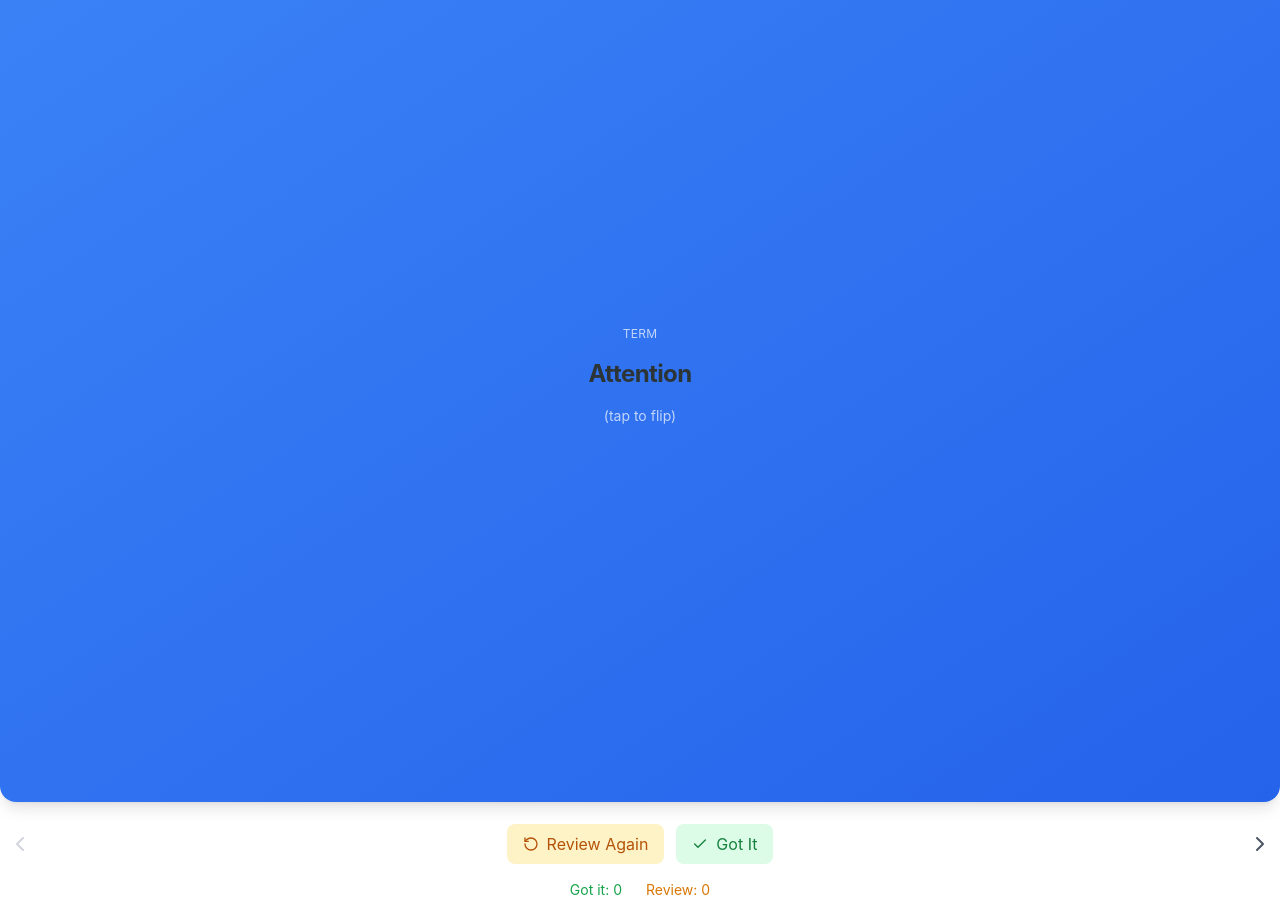
Scenario: FlashcardDeck › advances to next card after Got It
(page scrolled)
Click the button with test id "got-it-button".
click(725, 844)  # box [676,824,773,864]
(page scrolled)
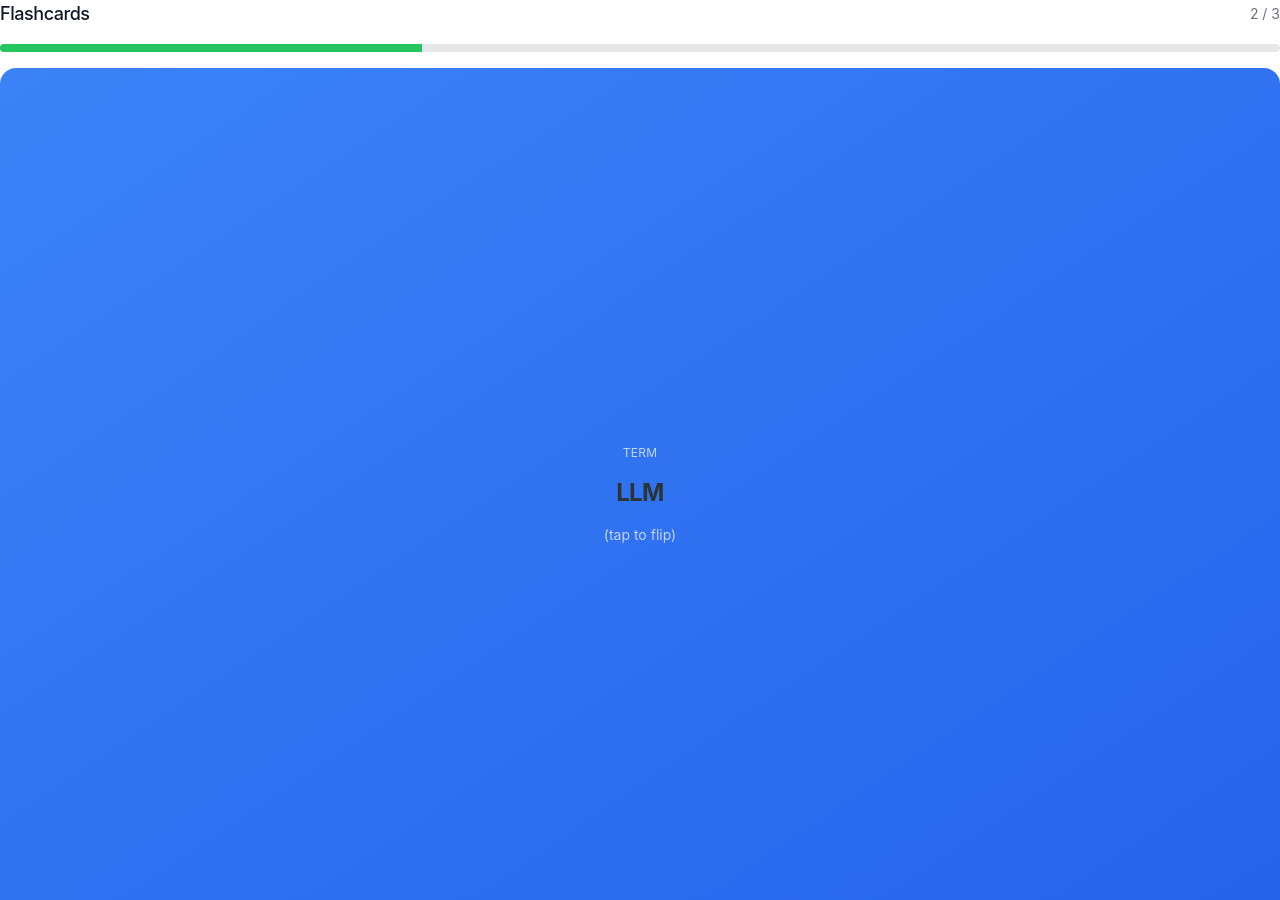
Result: the text "2 / 3" is shown at [1250,4,1279,24]
